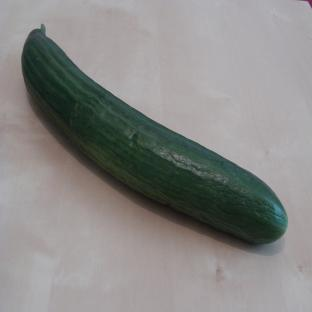Cucumber: (22, 26, 287, 243)
